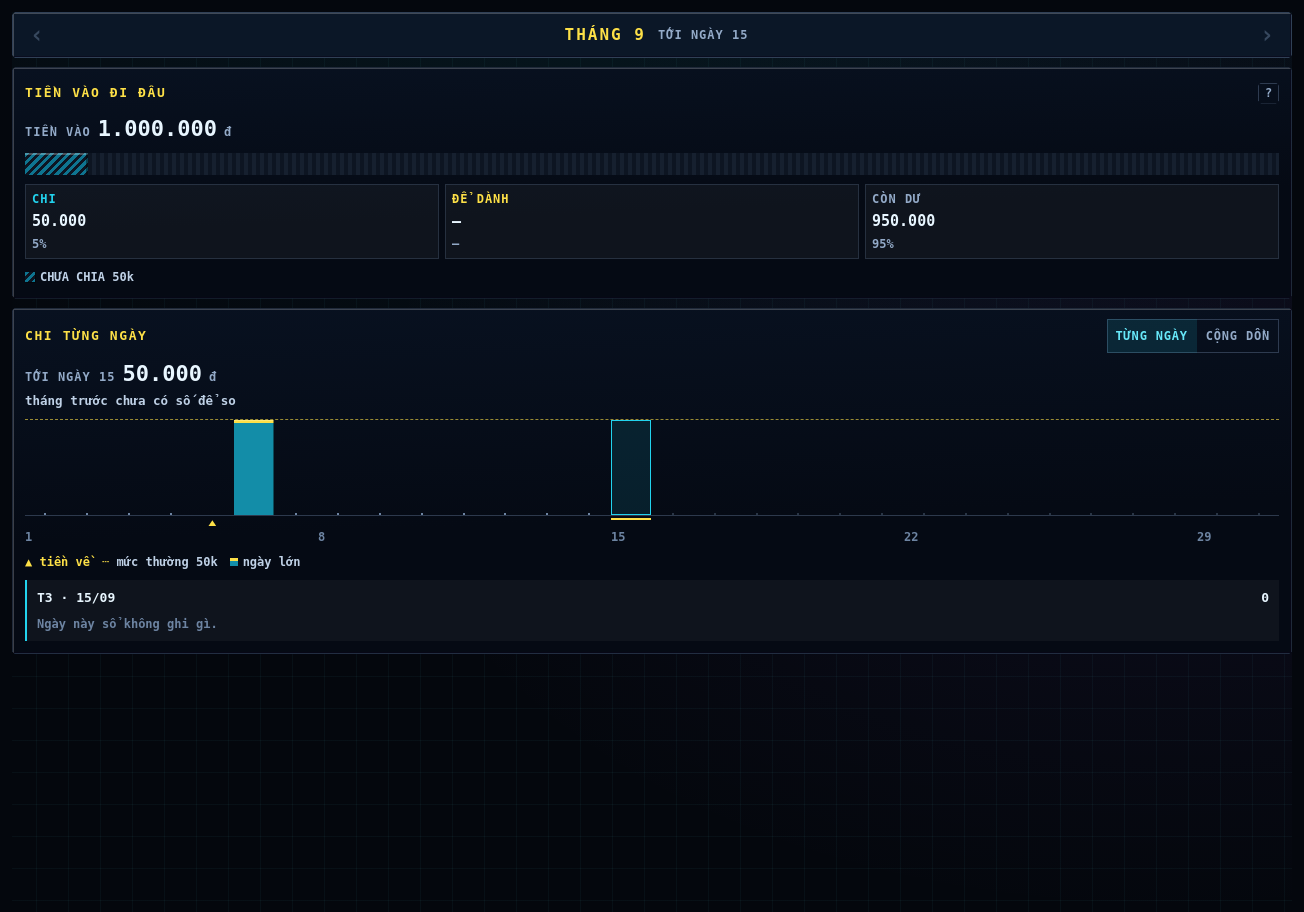
Test case: §II — CHI TỪNG NGÀY: cột là tiêu thật, chạm cột đọc đúng ngày › ⭐⭐ ngày KHÔNG GHI ⇒ "sổ không ghi gì" — khác ngày có ghi mà chỉ có tiền vào (P7)
The width and height of the screenshot is (1304, 912).
Click the button named "03/09: 0 đ" at (129, 468), box [109,420,149,515]
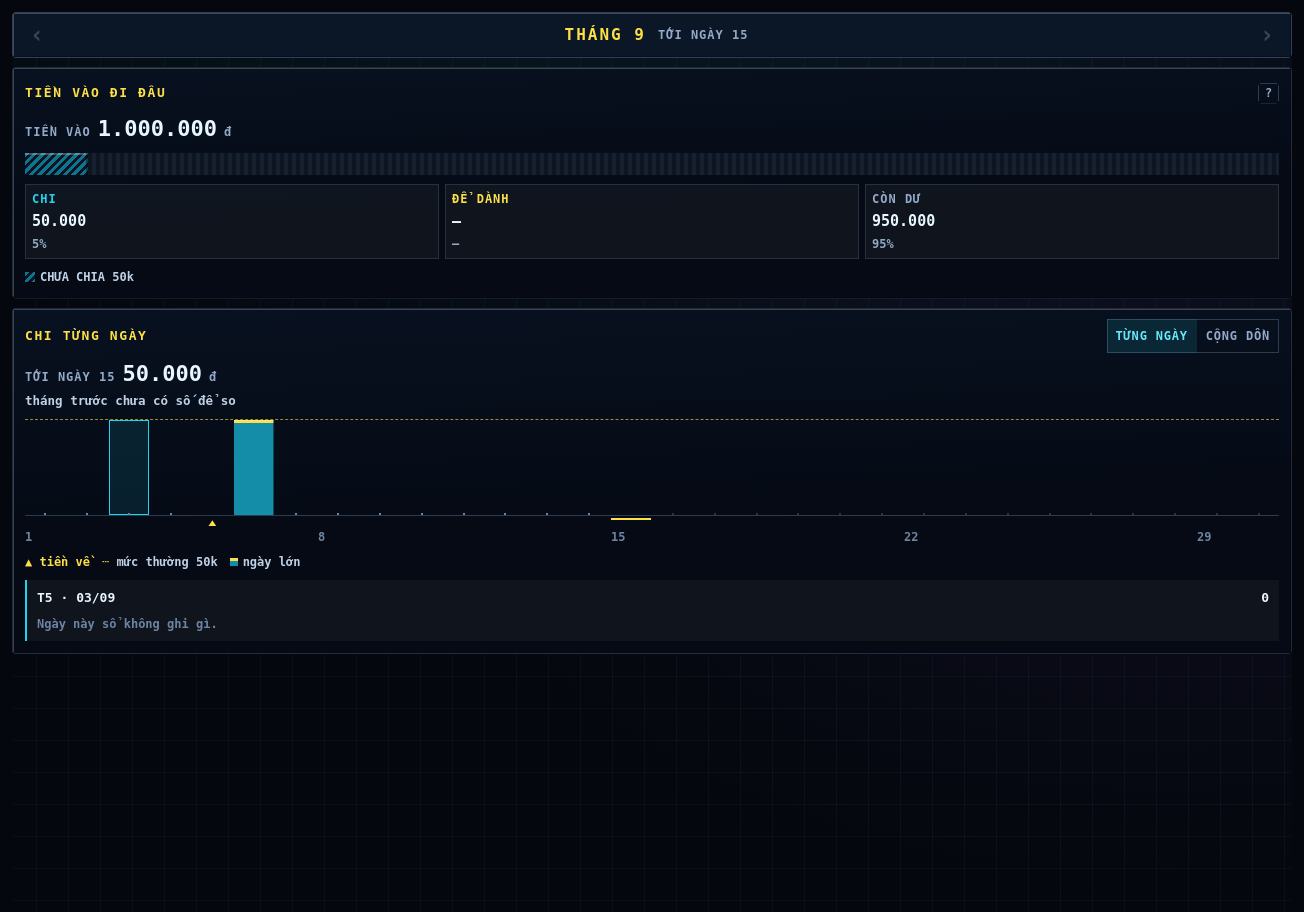
Expected: the text "Ngày này sổ không ghi gì." is shown, [37,617,218,631]
Click the button named "05/09: 0 đ" at (212, 468), box [192,420,232,515]
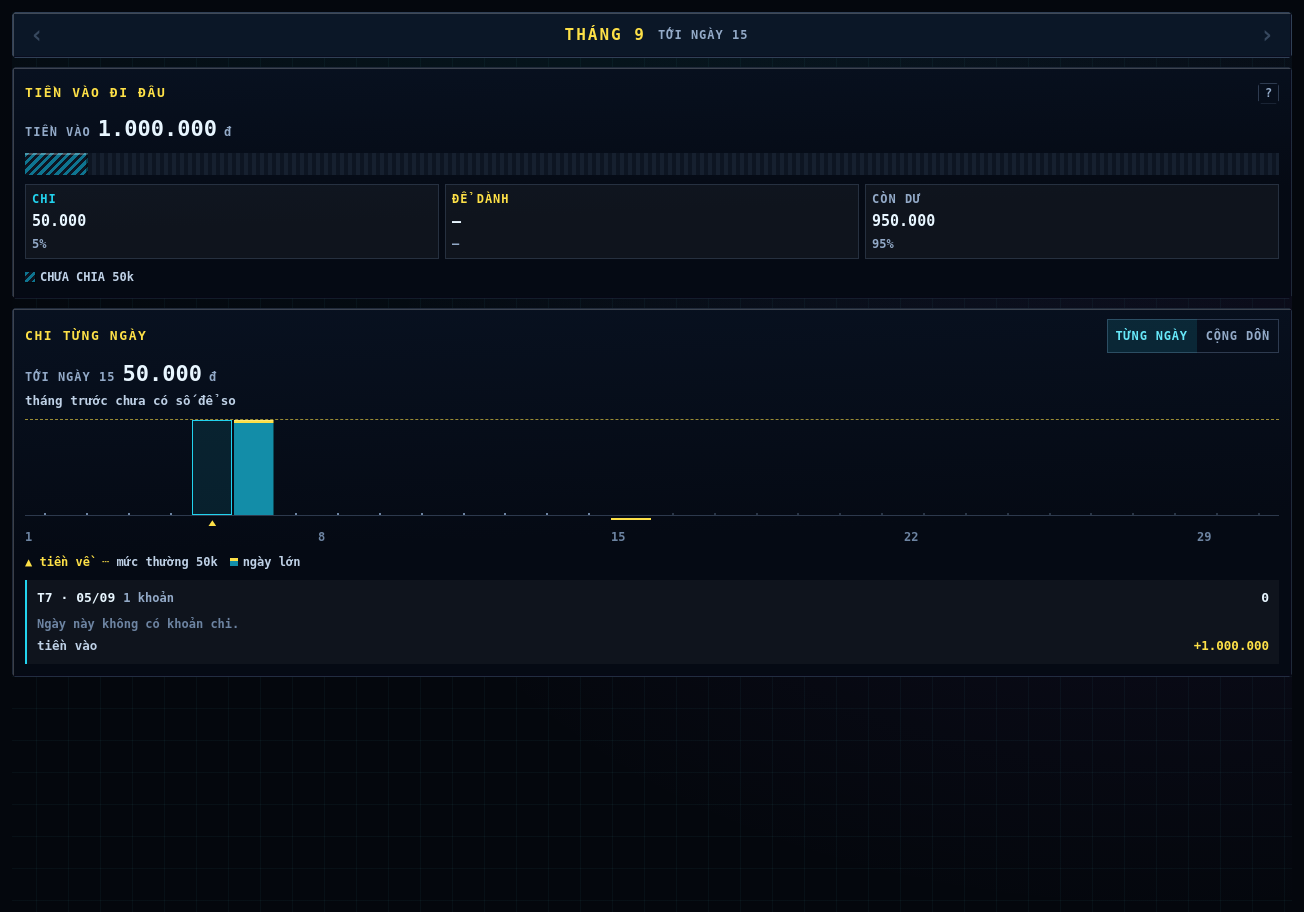
Result: the text "Ngày này không có khoản chi." is shown at [37,617,239,631]
Result: the text "+1.000.000" is shown at [1194,637,1269,656]
